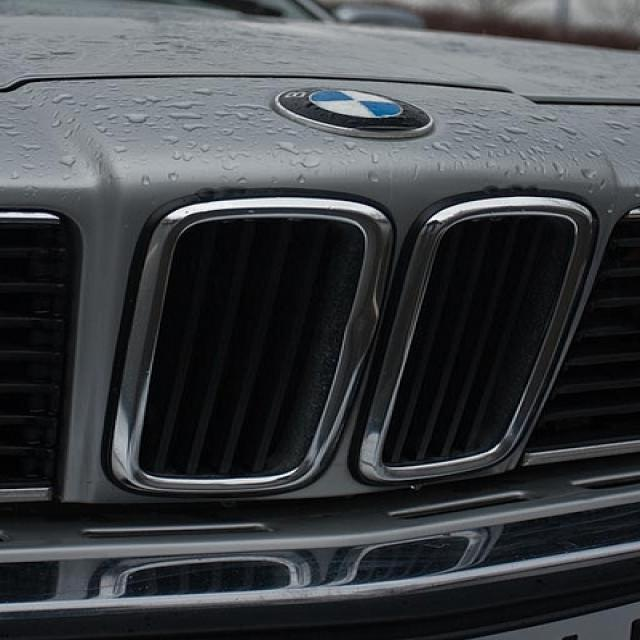bmw: (271, 85, 438, 142)
